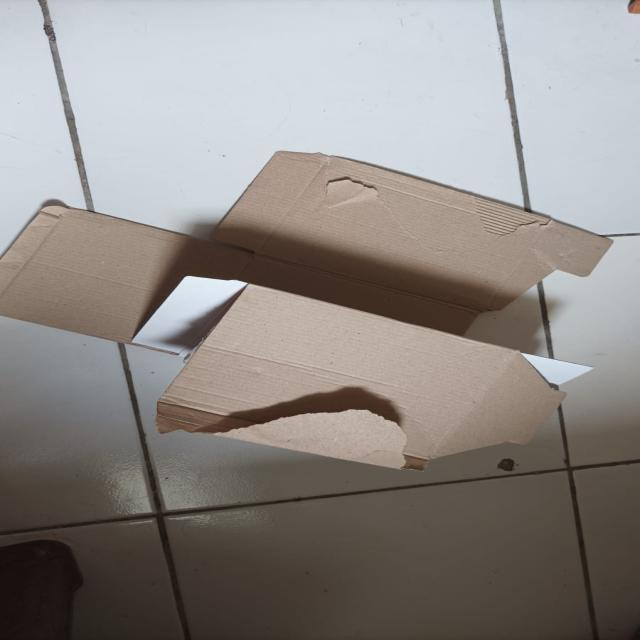Organik: (1, 150, 611, 473)
